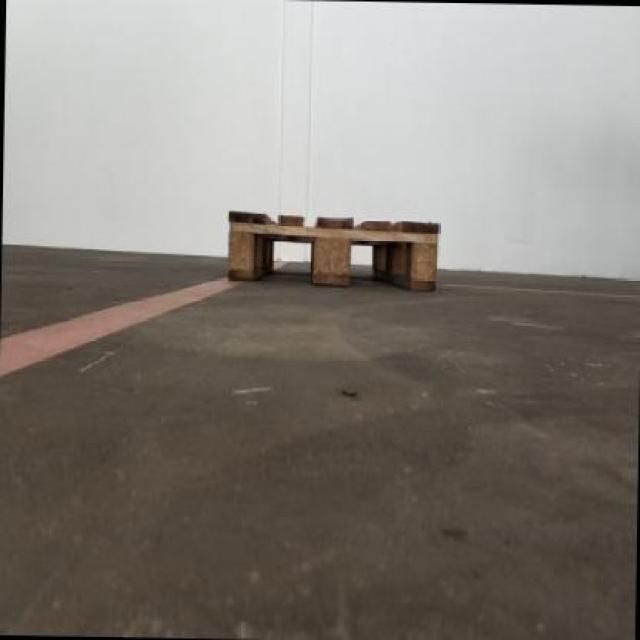block: (310, 226, 358, 288), (402, 225, 441, 294), (226, 217, 260, 284)
front: (222, 208, 443, 302)
